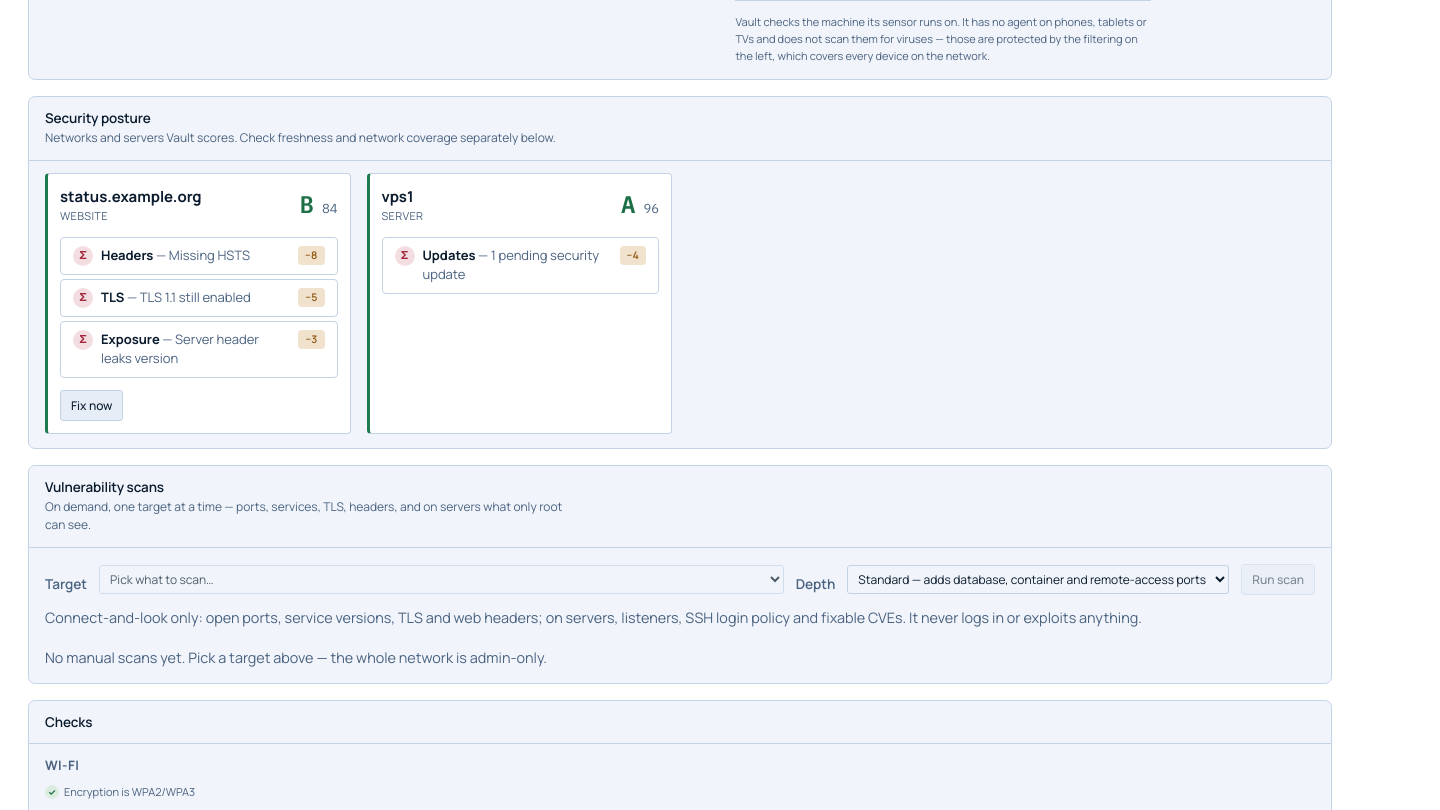
Test: Security › posts a scorecard's fix and polls the queue until it settles
This screenshot has width=1440, height=810.
(page scrolled)
What coordinates should you click on to do the following:
click the button "Fix now"
I would click on:
 (92, 405)
Its box is [60,390,124,421].
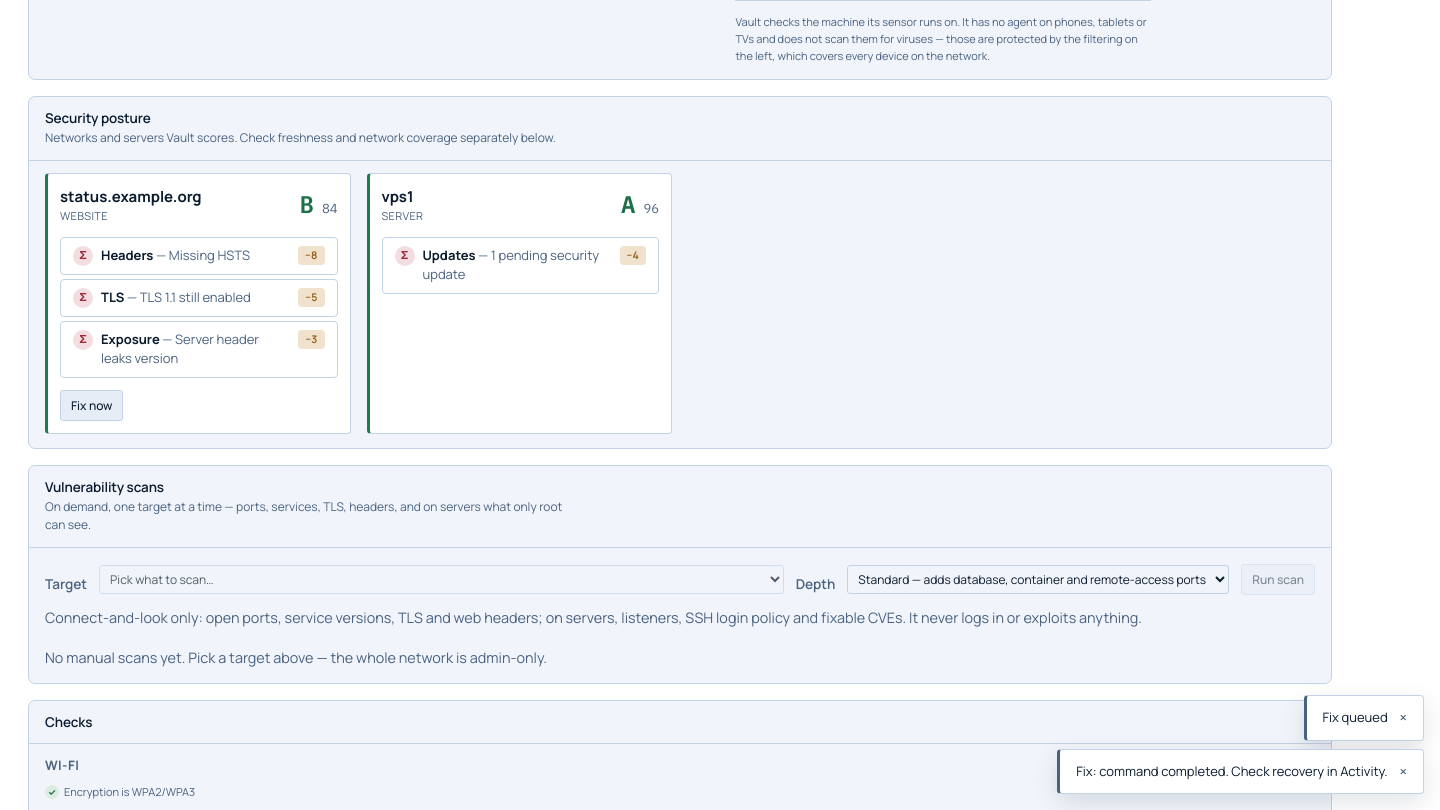
Expected: the text "Fix: command completed. Check recovery in Activity." is shown, [1076,762,1388,781]
